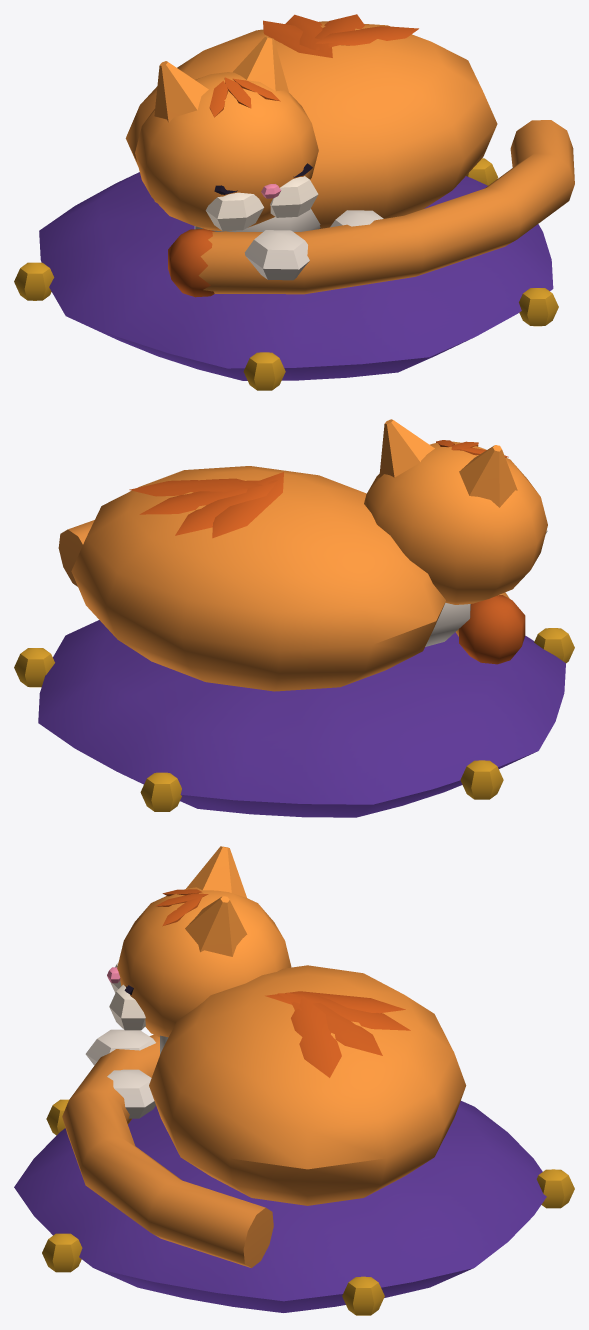
File: hz_cat.glb
3 renders of one model, top to bottom at view 1: azimuth 30°, elevation 25°; view 2: azimuth 150°, elevation 25°; view 3: azimuth 270°, elevation 25°, orthographic. The views are drawn at different scales.
Parts seen in each view (by area): view 1: hz_cat; view 2: hz_cat; view 3: hz_cat.
Boxes of the visible parts, x1=… form: hz_cat: x1=14, y1=14, x2=574, y2=390; hz_cat: x1=14, y1=419, x2=574, y2=817; hz_cat: x1=14, y1=846, x2=574, y2=1315.
Bounding box in the file's own units: 0.7244 × 0.4344 × 0.707.
